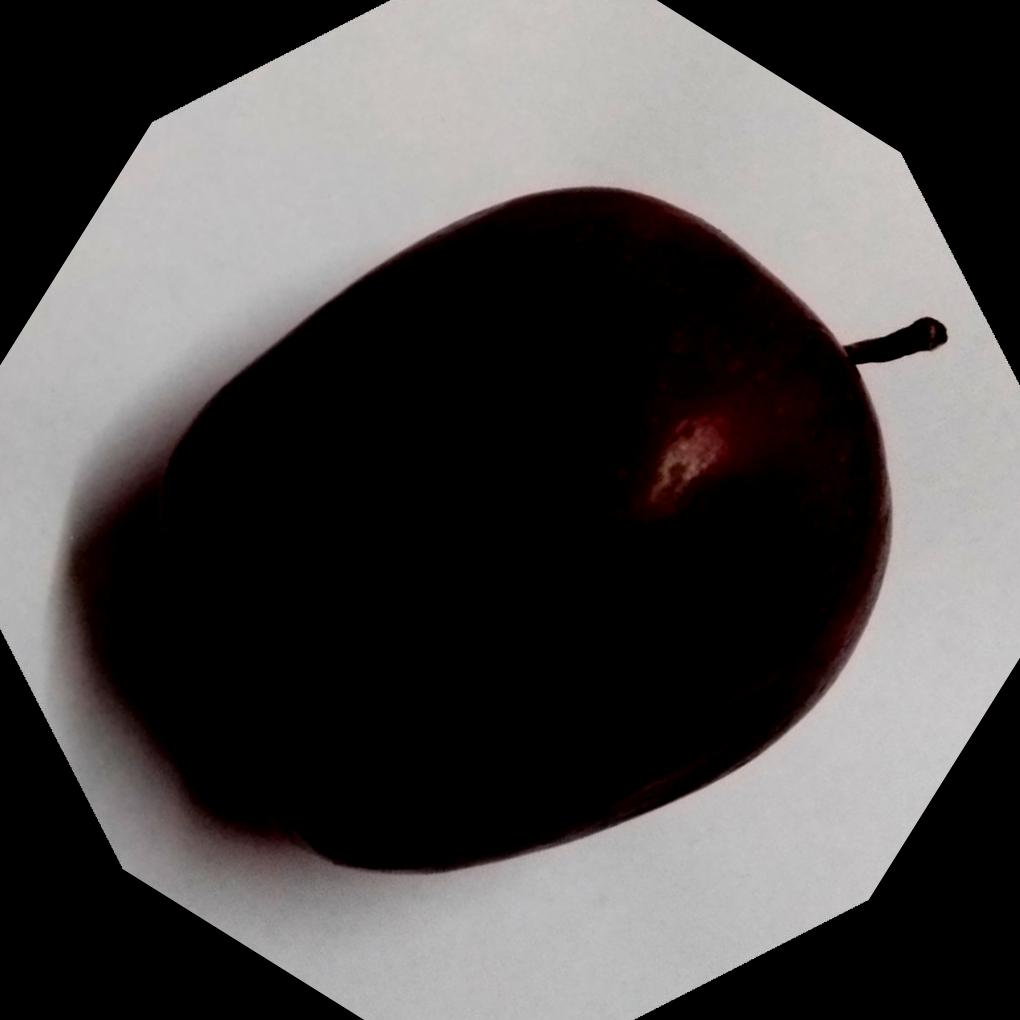FreshOrange: (149, 185, 892, 878)
